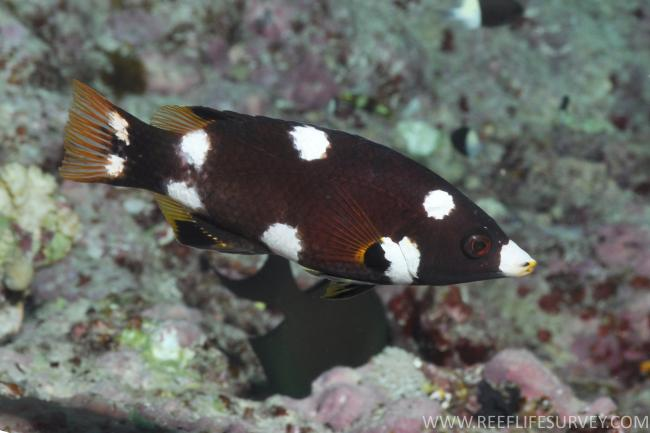fish: (58, 77, 538, 287)
